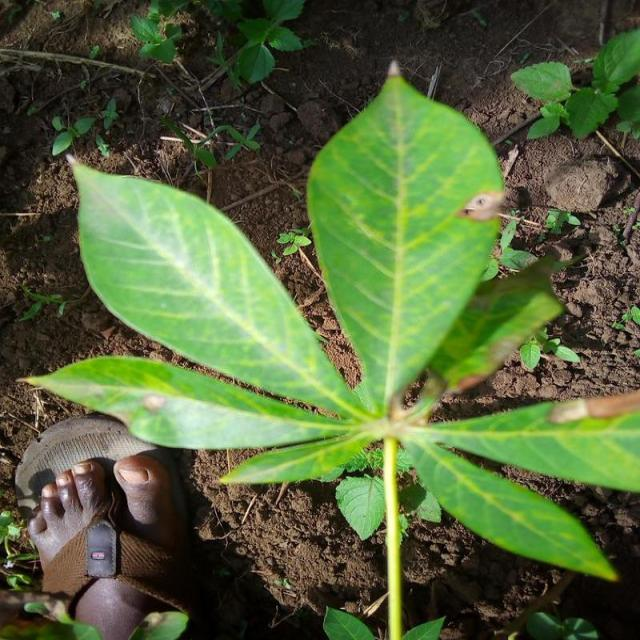cassava leaf: (15, 60, 638, 624), (64, 150, 370, 424), (304, 60, 506, 417)
